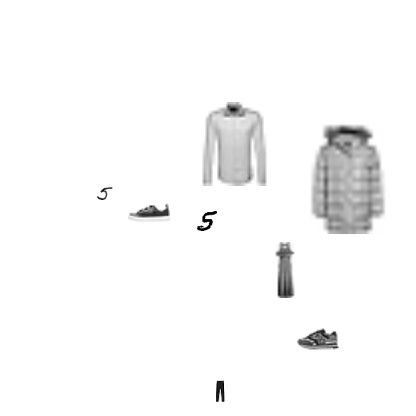5: (192, 207, 220, 235), (93, 182, 115, 204)
Coat: (292, 122, 404, 234)
Dress: (256, 242, 312, 298)
Shirt: (191, 102, 275, 186)
Sneaker: (297, 318, 339, 360), (128, 192, 170, 234)
Trouser: (209, 380, 231, 402)
